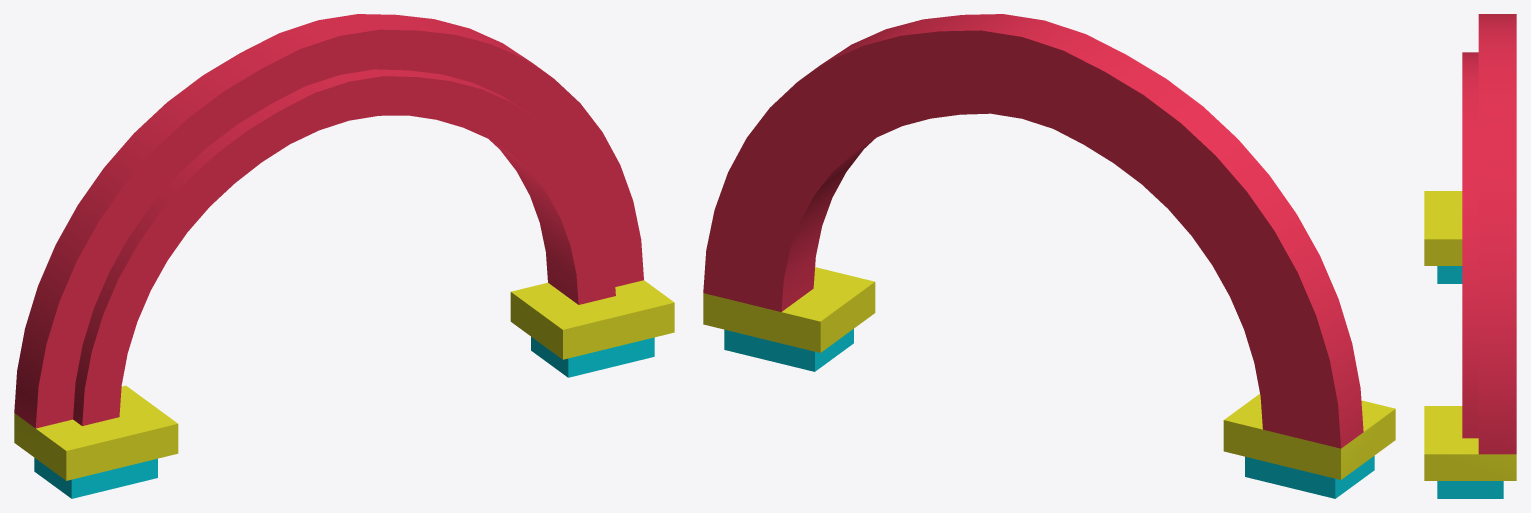
File: Arco_Fabre (2).fbx
3 views of the same model, side by side, from view 1: azimuth 30°, elevation 25°; view 2: azimuth 150°, elevation 25°; view 3: azimuth 270°, elevation 25° (orthographic). The views are drawn at different scales.
Parts seen in each view (by area): view 1: Puerta_Arco.001; view 2: Puerta_Arco.001; view 3: Puerta_Arco.001.
Boxes of the visible parts, box(x1,y1,x2,y2) form: Puerta_Arco.001: box(14, 14, 674, 498); Puerta_Arco.001: box(703, 14, 1395, 498); Puerta_Arco.001: box(1424, 14, 1516, 498).
Size of the model in its own units: 514 by 303 by 76.34.
